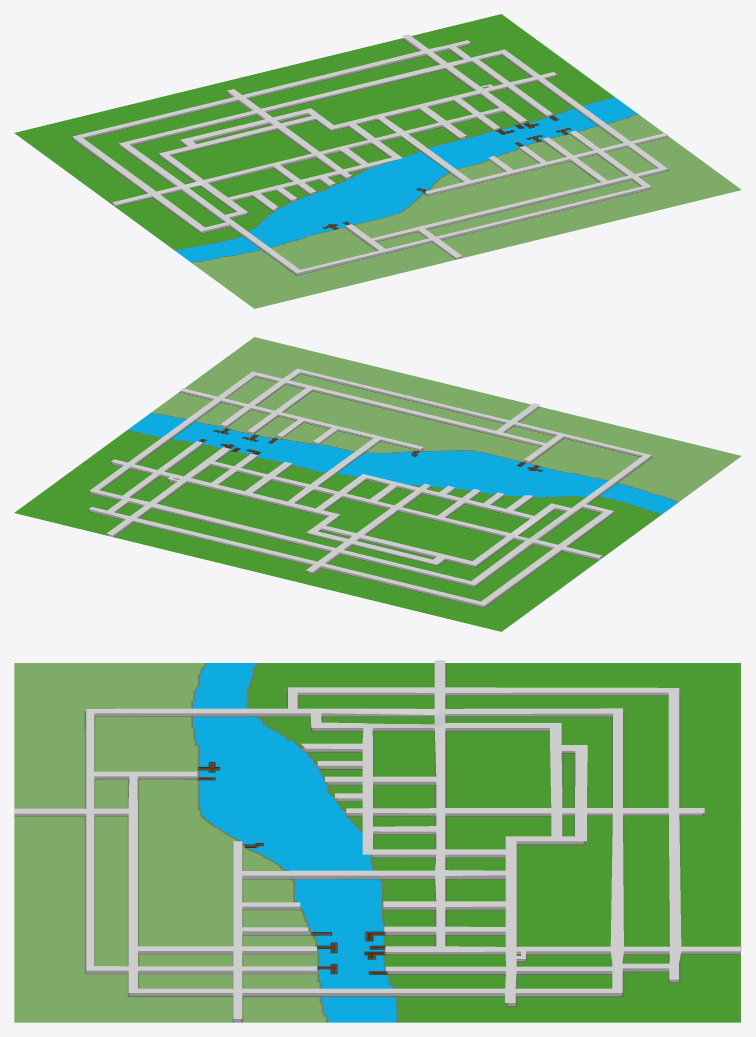
The model's file is mapa con carreteras modeladas.FBX.
3 views of the same model, one above another, from view 1: azimuth 30°, elevation 25°; view 2: azimuth 150°, elevation 25°; view 3: azimuth 270°, elevation 25° (orthographic). The views are drawn at different scales.
Parts seen in each view (by area): view 1: fondo, carretera; view 2: fondo, carretera; view 3: fondo, carretera.
Part boxes in pixels (left/top/right/bottom): fondo: left=14, top=14, right=741, bottom=308; carretera: left=72, top=34, right=668, bottom=272; fondo: left=14, top=337, right=741, bottom=631; carretera: left=89, top=368, right=651, bottom=605; fondo: left=14, top=663, right=740, bottom=1022; carretera: left=14, top=660, right=741, bottom=1018.
Size of the model in its own units: 160 by 0.6563 by 137.
1 material, 1 textured.
